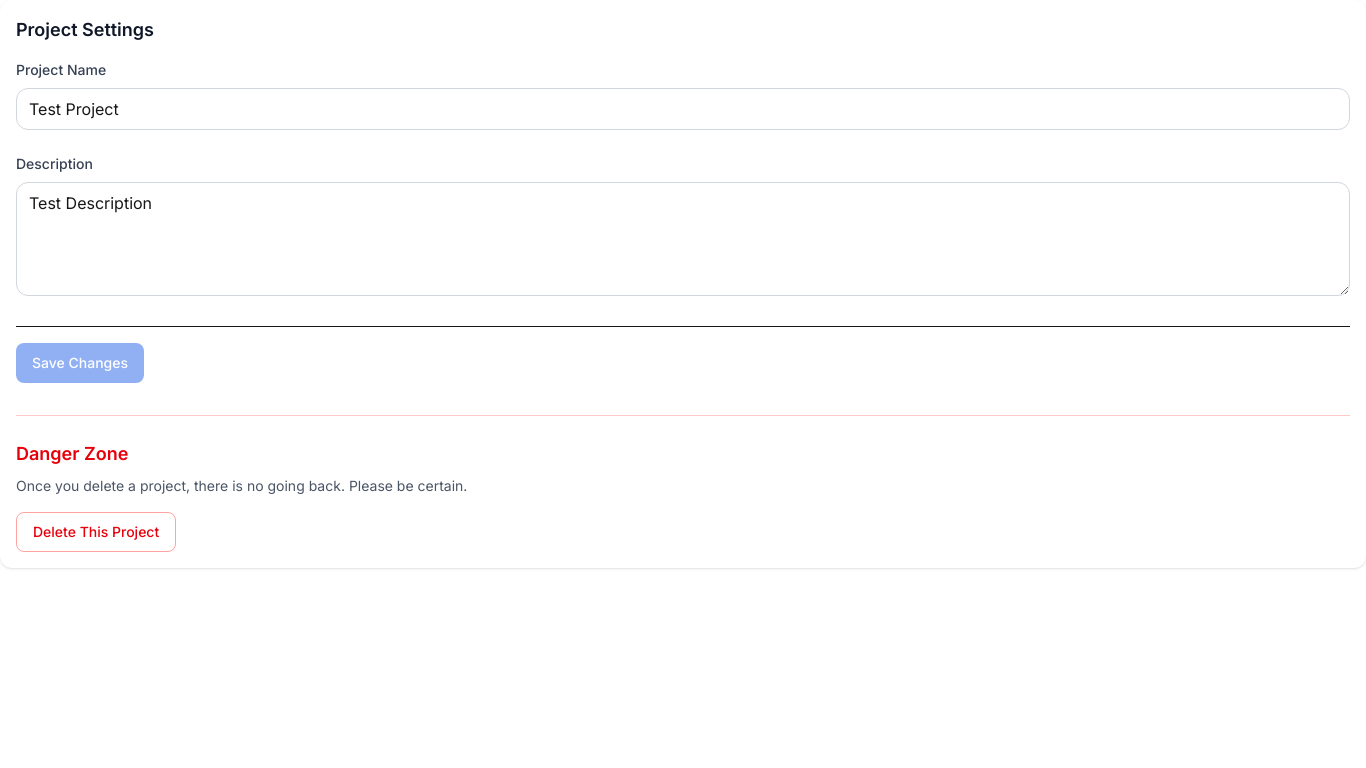
Test: ProjectSettingsTab › can cancel deletion
Step 1. Click the button "Delete This Project" → (96,532), box [16,512,176,552]
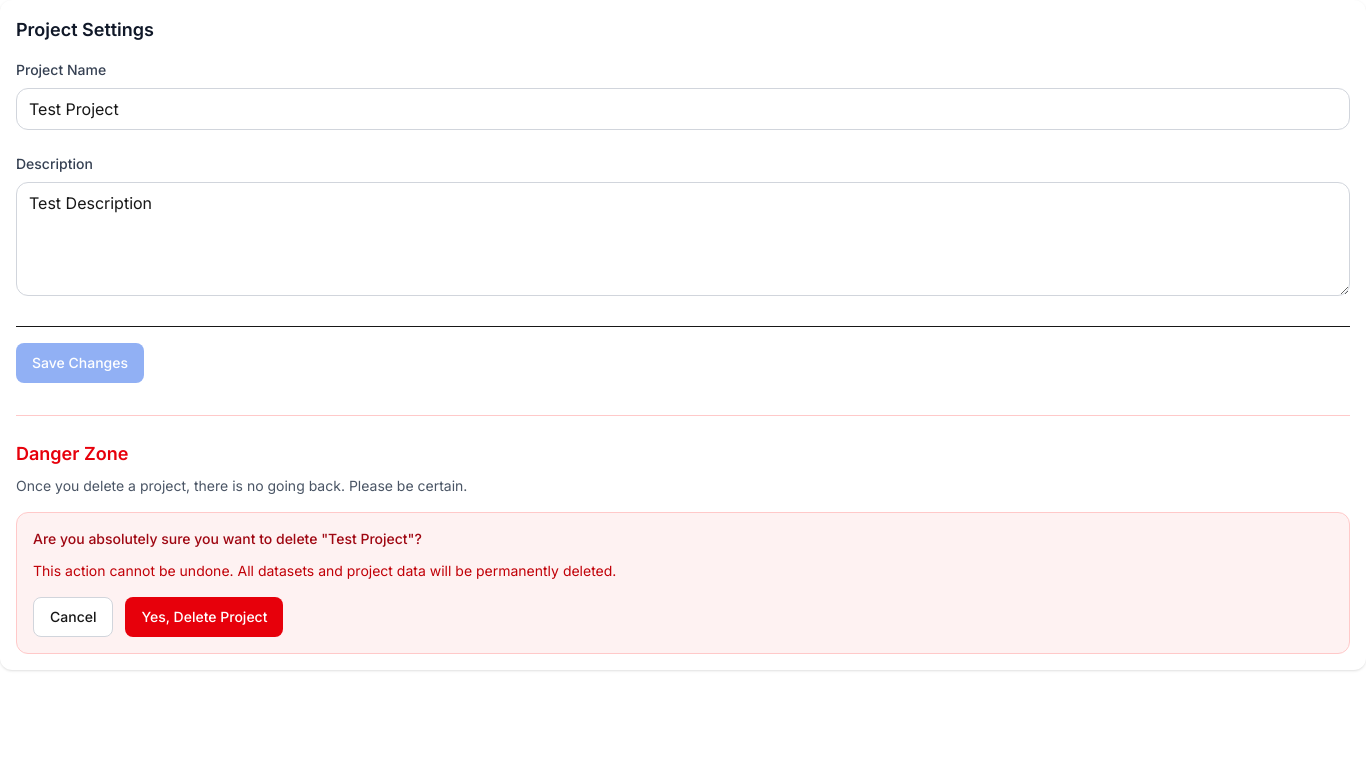
Note: Cancel deletion
Step 2. Click the button "Cancel" → (73,617), box [33,597,114,637]
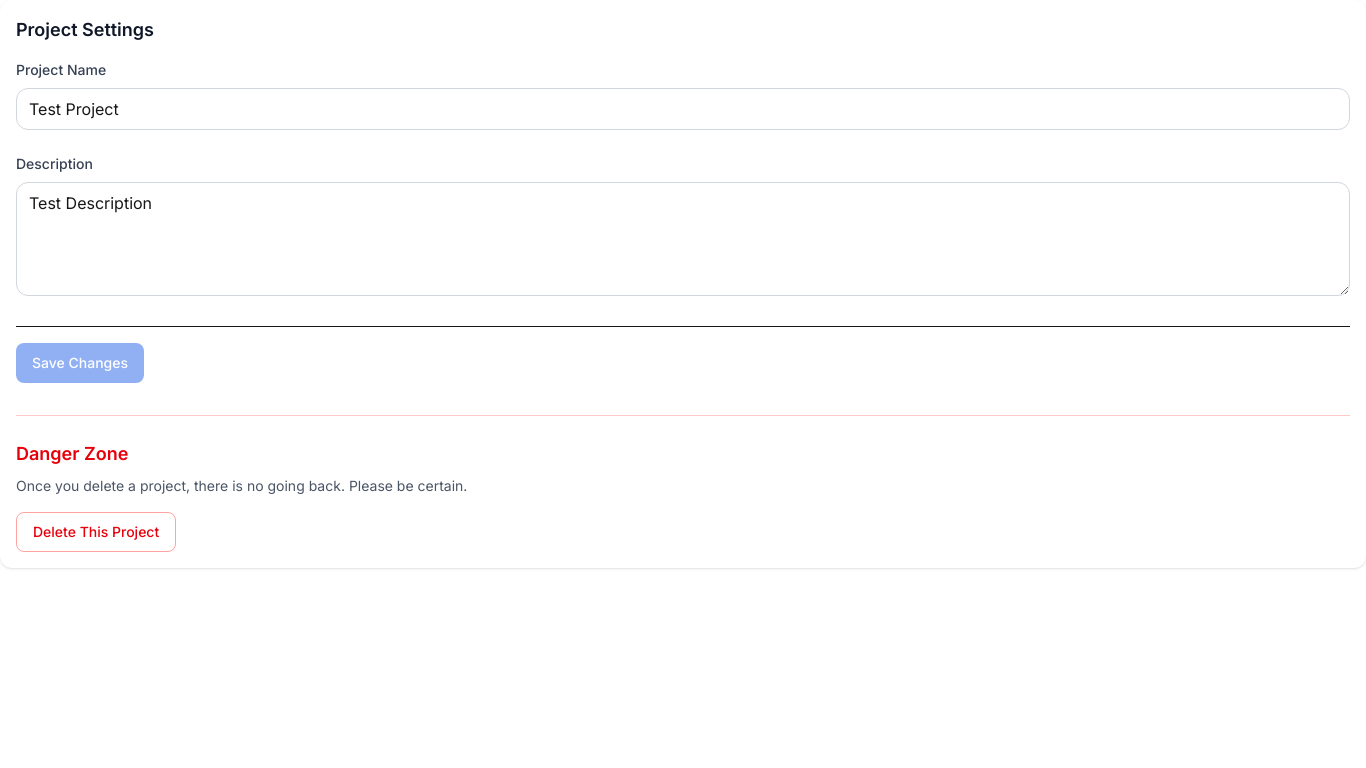
Check: the text "Are you absolutely sure" is gone
